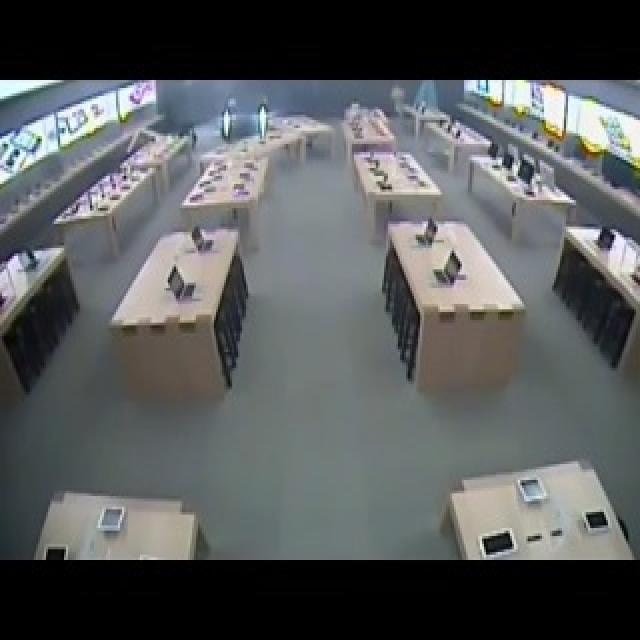burglary: (211, 88, 286, 162)
